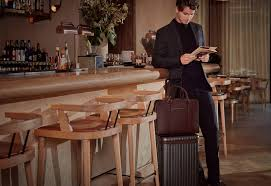suitcase: (152, 79, 201, 186)
